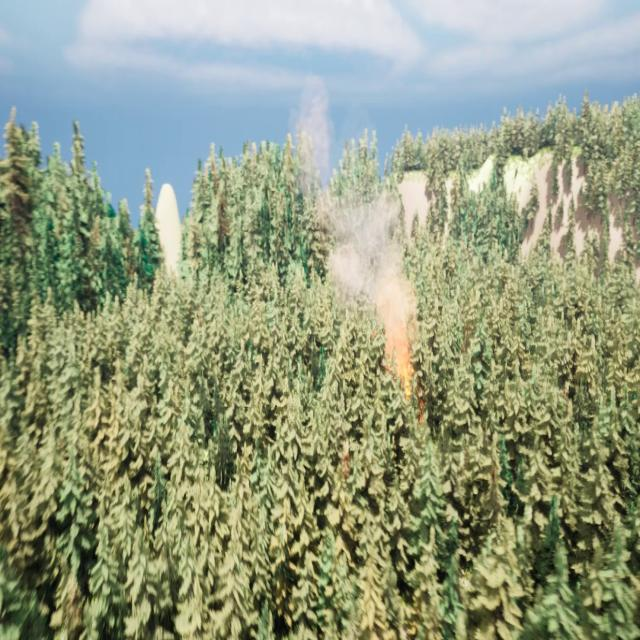smoke: (300, 76, 427, 392)
